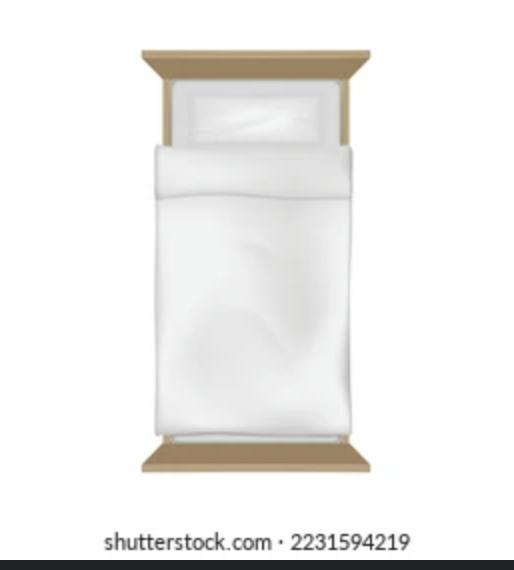Bed-Mattress: (134, 44, 380, 478)
